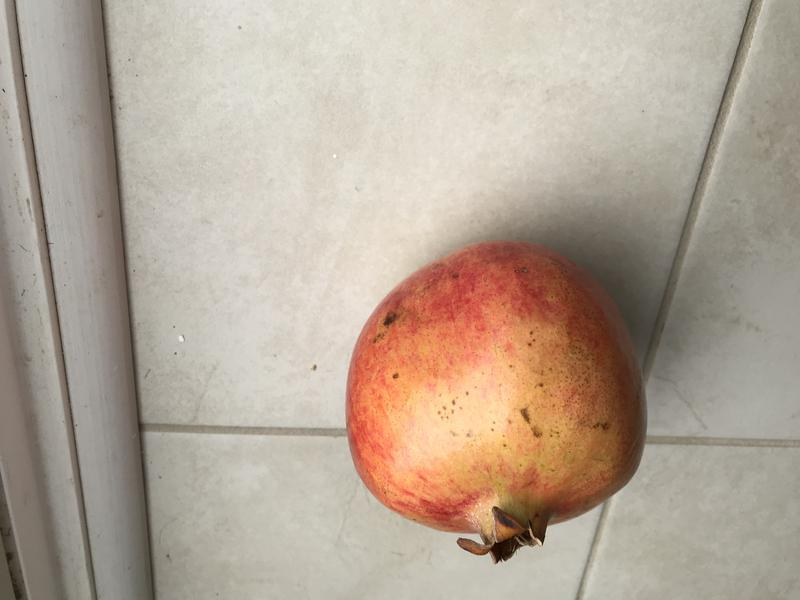pomegranate: (336, 230, 661, 571)
